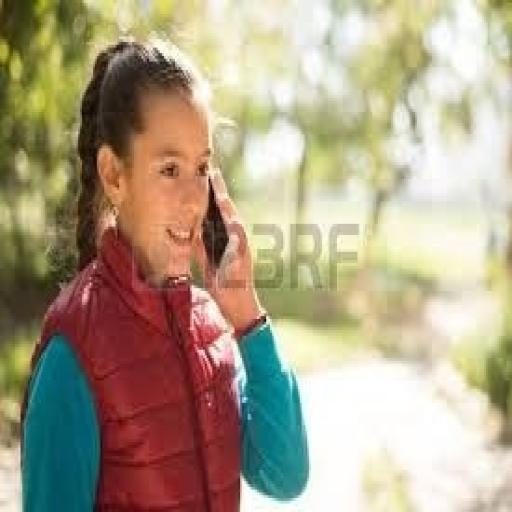texting: (19, 36, 311, 510)
